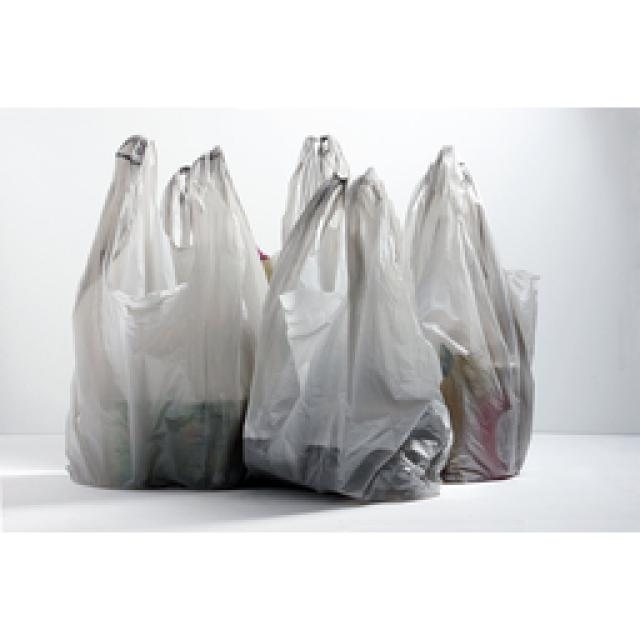plastic: (65, 135, 532, 500)
